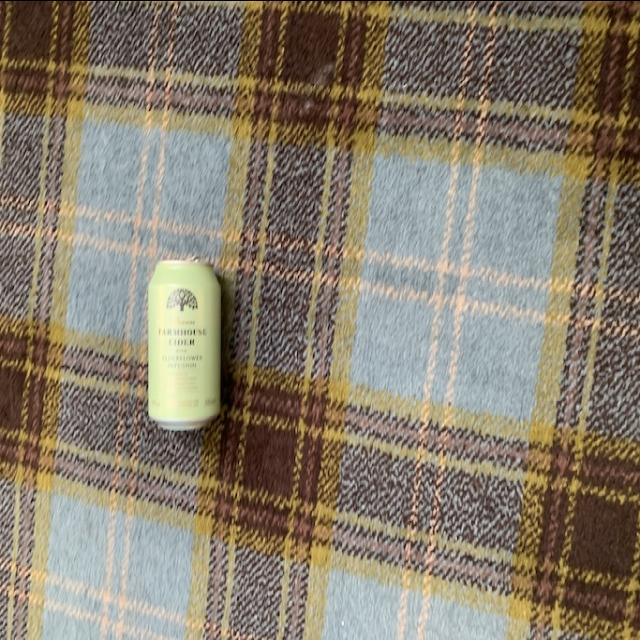litter: (148, 242, 230, 434)
